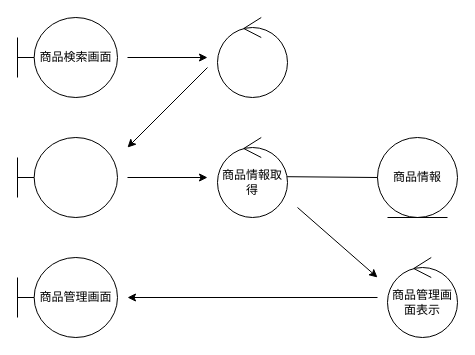
Image size: 475x355. Some labels were removed from this diagram. The shapes that lost their labels are listed below. From the top down, each one's centre as x and y in pixels, then its label:
point (252, 57): 管理者メニューの表示
point (67, 177): 管理者メニュー
